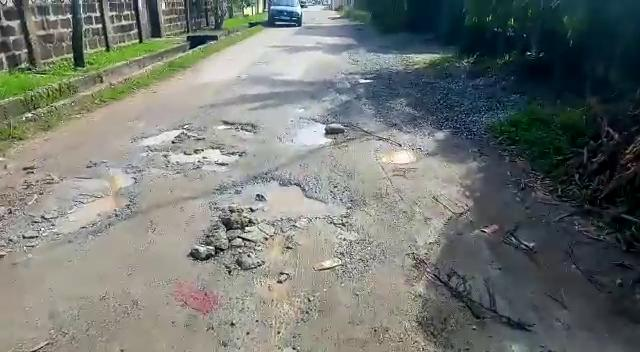pothole: (5, 165, 140, 247), (206, 174, 351, 218), (161, 146, 244, 166), (285, 117, 334, 146), (137, 126, 188, 149), (371, 144, 418, 167), (215, 120, 261, 135)
